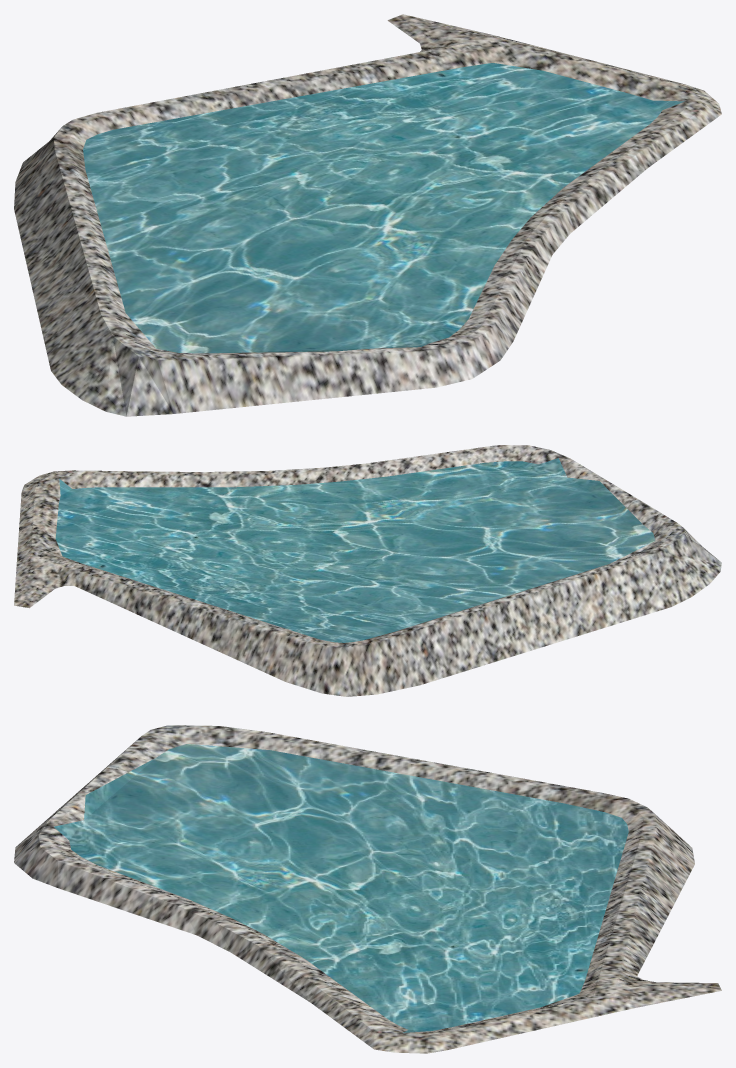
File: estanq.obj
3 renders of one model, top to bottom at view 1: azimuth 30°, elevation 25°; view 2: azimuth 150°, elevation 25°; view 3: azimuth 270°, elevation 25°, orthographic. The views are drawn at different scales.
Visible parts, largest first — view 1: Layer0_001; view 2: Layer0_001; view 3: Layer0_001.
Part boxes in pixels (x1,y1,x2,y2): Layer0_001: [14, 14, 721, 416]; Layer0_001: [14, 445, 721, 696]; Layer0_001: [14, 725, 721, 1053].
Bounding box in the file's own units: 530 × 32.29 × 463.
2 materials, 2 textured.
